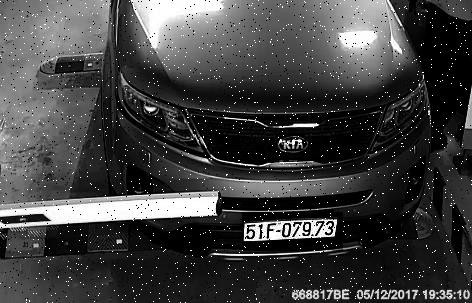License-plate: (244, 213, 346, 252)
